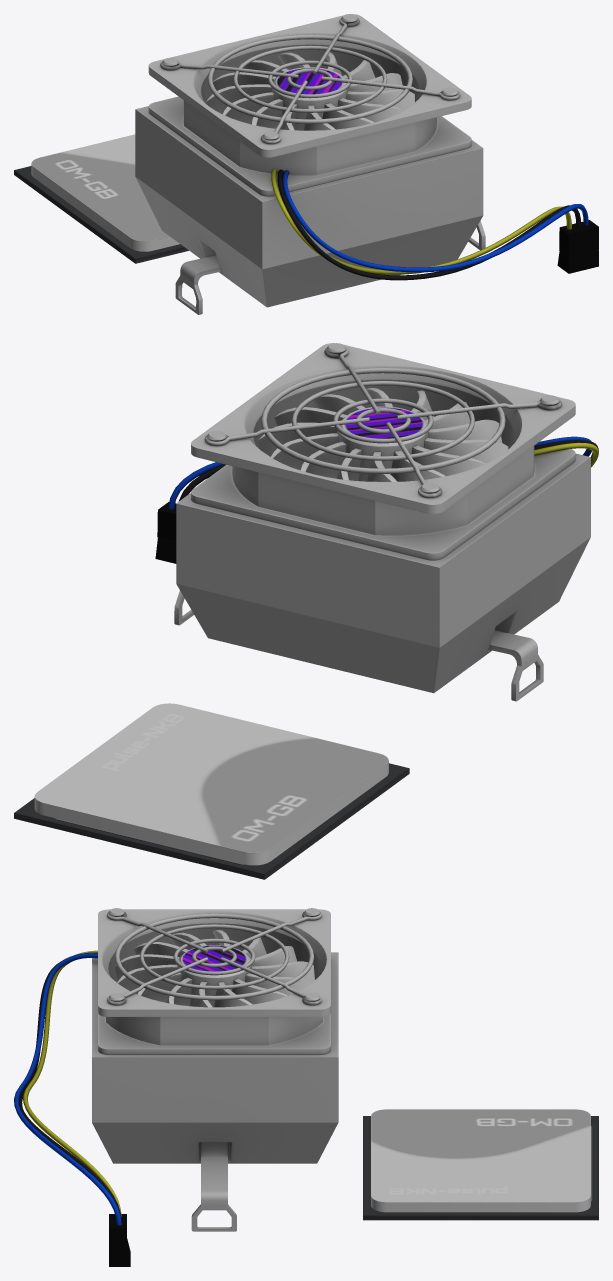
Rendered from cpu-disipador.glb.
3 renders of one model, top to bottom at view 1: azimuth 30°, elevation 25°; view 2: azimuth 150°, elevation 25°; view 3: azimuth 270°, elevation 25°, orthographic. The views are drawn at different scales.
Parts seen in each view (by area): view 1: cpu_cooler_b_1__1_, cpu_2, cpu_cooler_b_fan_1, cpu_cooler_b_fan_connect; view 2: cpu_cooler_b_1__1_, cpu_2, cpu_cooler_b_fan_1; view 3: cpu_cooler_b_1__1_, cpu_2, cpu_cooler_b_fan_1.
Part boxes in pixels (box(x1,y1,x2,y2)): cpu_cooler_b_1__1_: box(135, 14, 598, 314); cpu_2: box(14, 134, 188, 263); cpu_cooler_b_fan_1: box(205, 52, 414, 130); cpu_cooler_b_fan_connect: box(557, 240, 598, 273); cpu_cooler_b_1__1_: box(157, 343, 598, 701); cpu_2: box(14, 703, 409, 879); cpu_cooler_b_fan_1: box(258, 387, 508, 481); cpu_cooler_b_1__1_: box(14, 908, 338, 1250); cpu_2: box(363, 1109, 598, 1220); cpu_cooler_b_fan_1: box(114, 930, 314, 1007).
Size of the model in its own units: 0.0789 by 0.0482 by 0.115.
2 materials, 2 textured.
